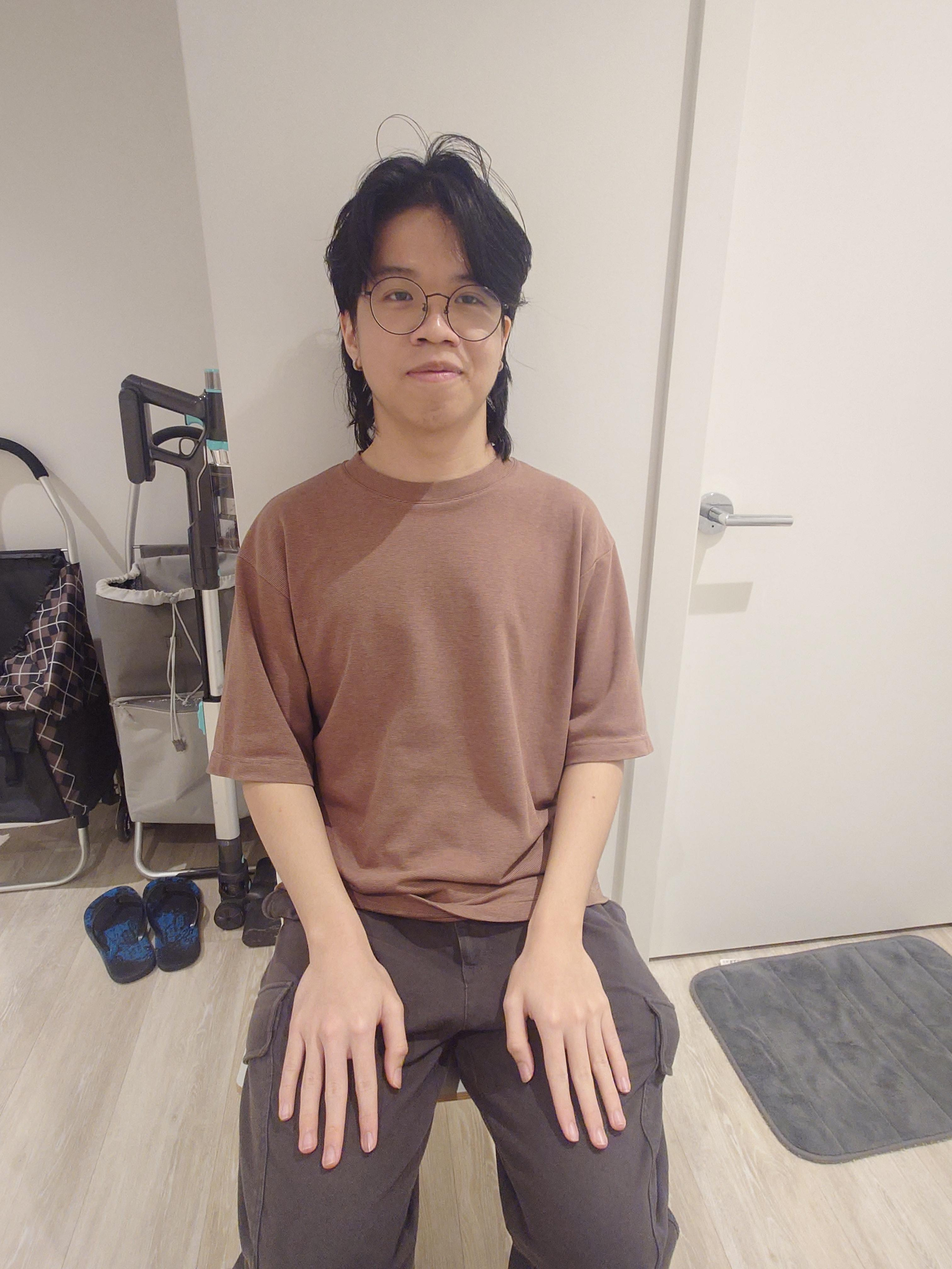GoodPosture: (204, 152, 681, 1269)
